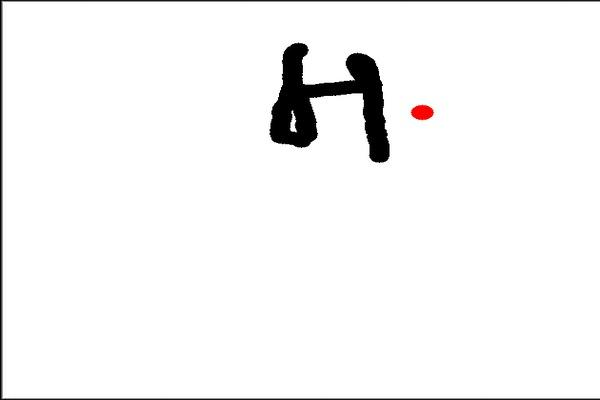H: (266, 36, 395, 172)
